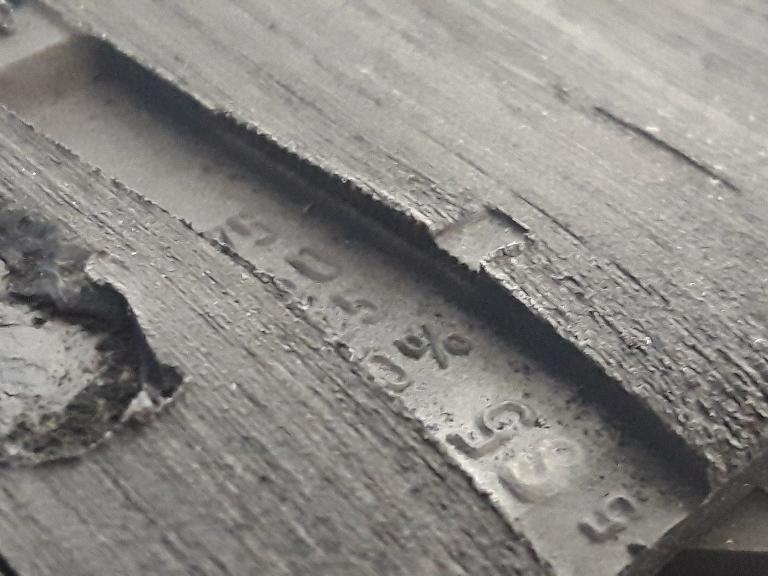temoin:0: (396, 176, 543, 301)
